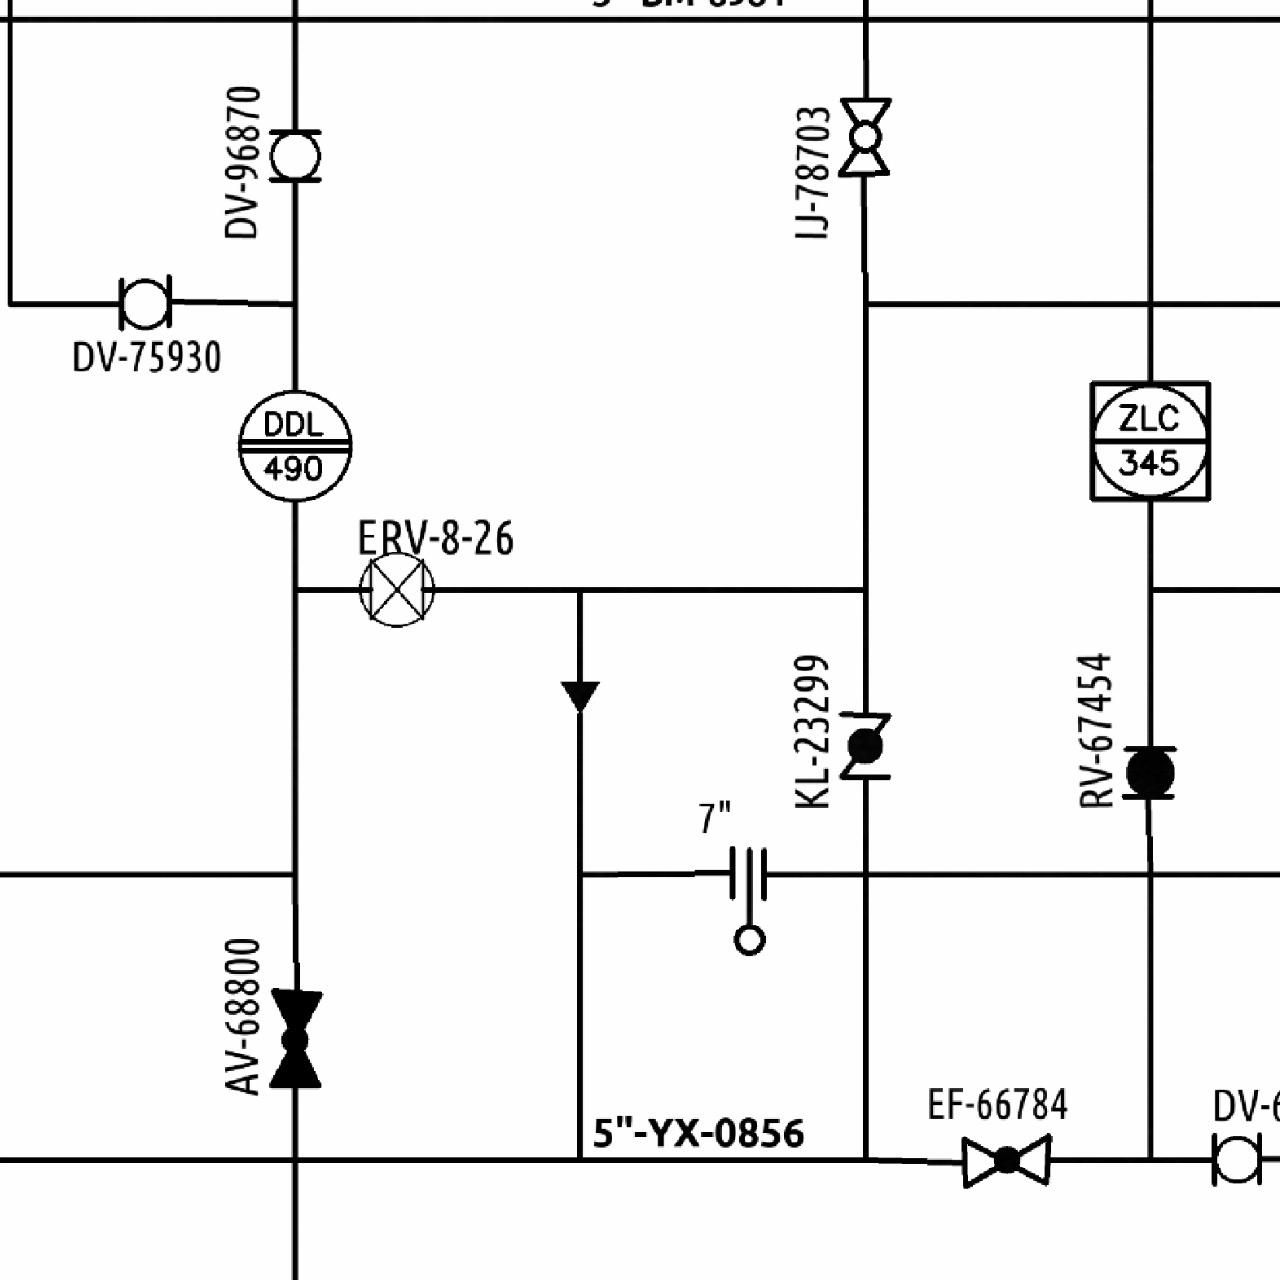Control-Panel: (229, 381, 353, 508)
